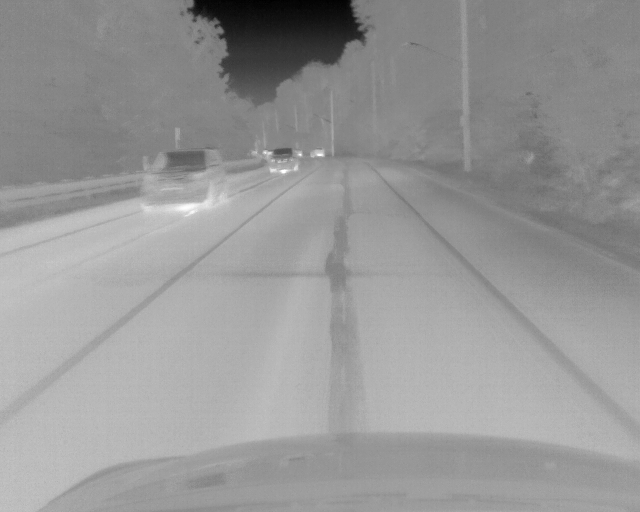car: (139, 147, 228, 212), (268, 148, 299, 174), (309, 146, 325, 158)
